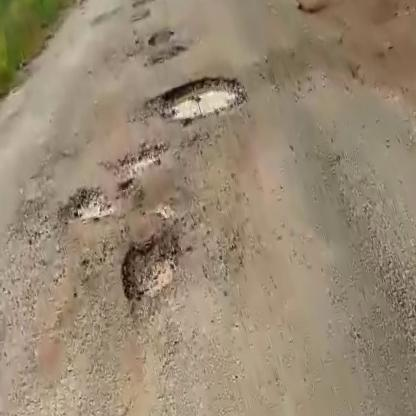pothole: (141, 65, 251, 137), (109, 224, 191, 303), (49, 180, 112, 230), (114, 137, 173, 183)
